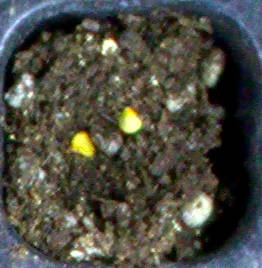chilli seed: (69, 130, 95, 157), (119, 106, 141, 133)
